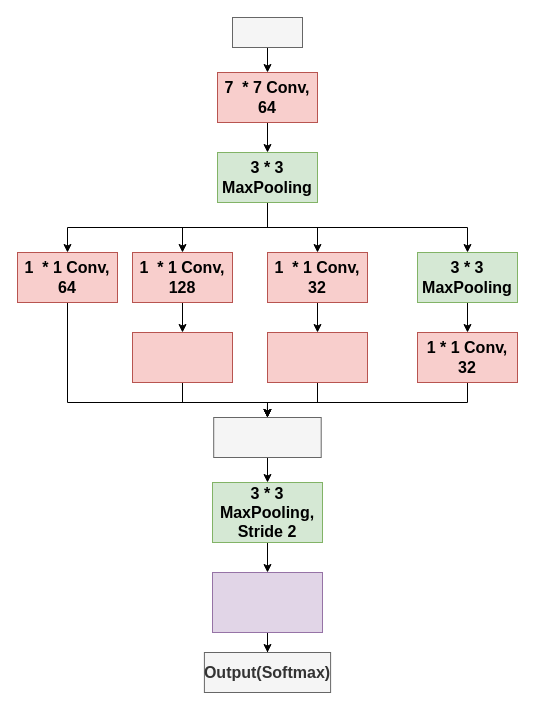
The diagram is 535 pixels wide and 710 high, and some of its shapes have lost their labels. The centre of each missing label's shape, as x and y in pixels:
"3 * 3 Conv, 128" goes at (x=182, y=357).
"5 * 5 Conv, 96" goes at (x=317, y=357).
"Concatenate" goes at (x=267, y=437).
"Global Average Pooling" goes at (x=267, y=602).
"Input" goes at (x=267, y=32).
